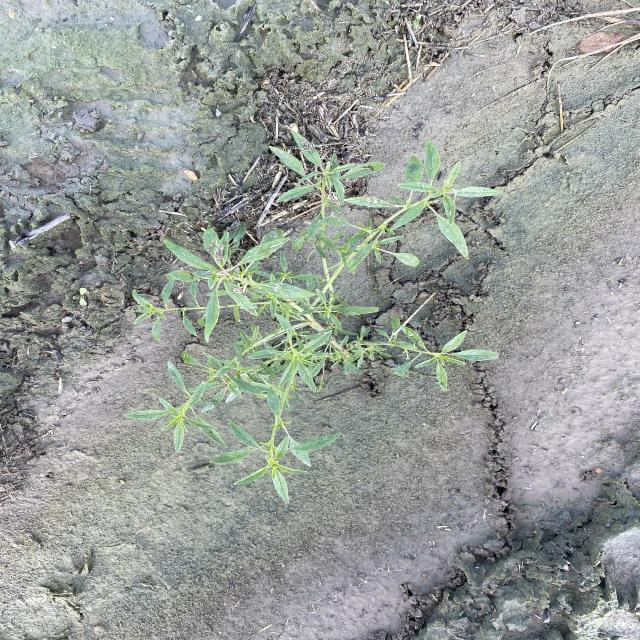Waterhemp: (120, 127, 505, 506)
